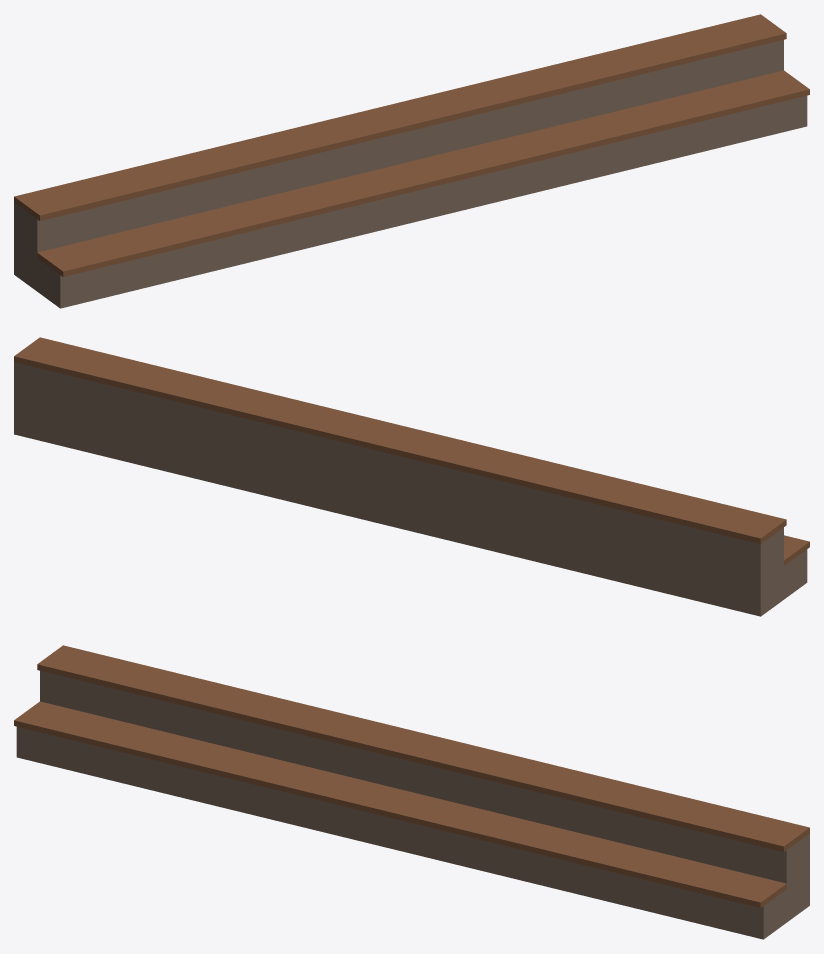
Rendered from SM_escaliers.fbx.
3 renders of one model, top to bottom at view 1: azimuth 30°, elevation 25°; view 2: azimuth 150°, elevation 25°; view 3: azimuth 330°, elevation 25°, orthographic.
Parts seen in each view (by area): view 1: SM_escaliers; view 2: SM_escaliers; view 3: SM_escaliers.
Boxes of the visible parts, x1,y1,x2,y2 form: SM_escaliers: (14,14,809,308); SM_escaliers: (14,337,809,616); SM_escaliers: (14,645,809,939).
Bounding box in the file's own units: 500 × 50 × 57.03.
